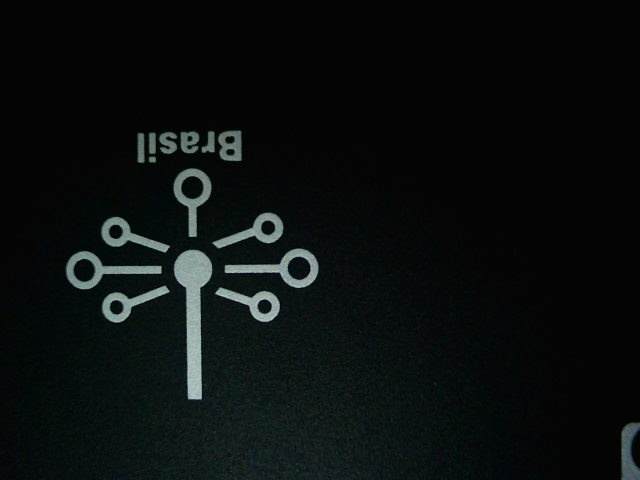BG_Brasil: (50, 117, 351, 414)
